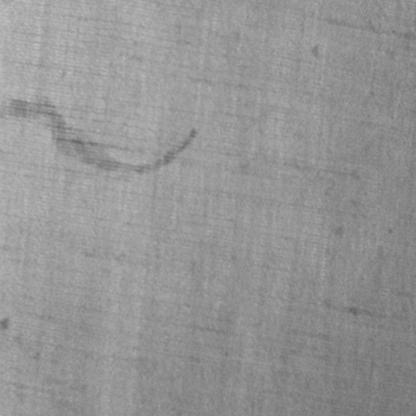oil spot: (0, 90, 197, 179)
